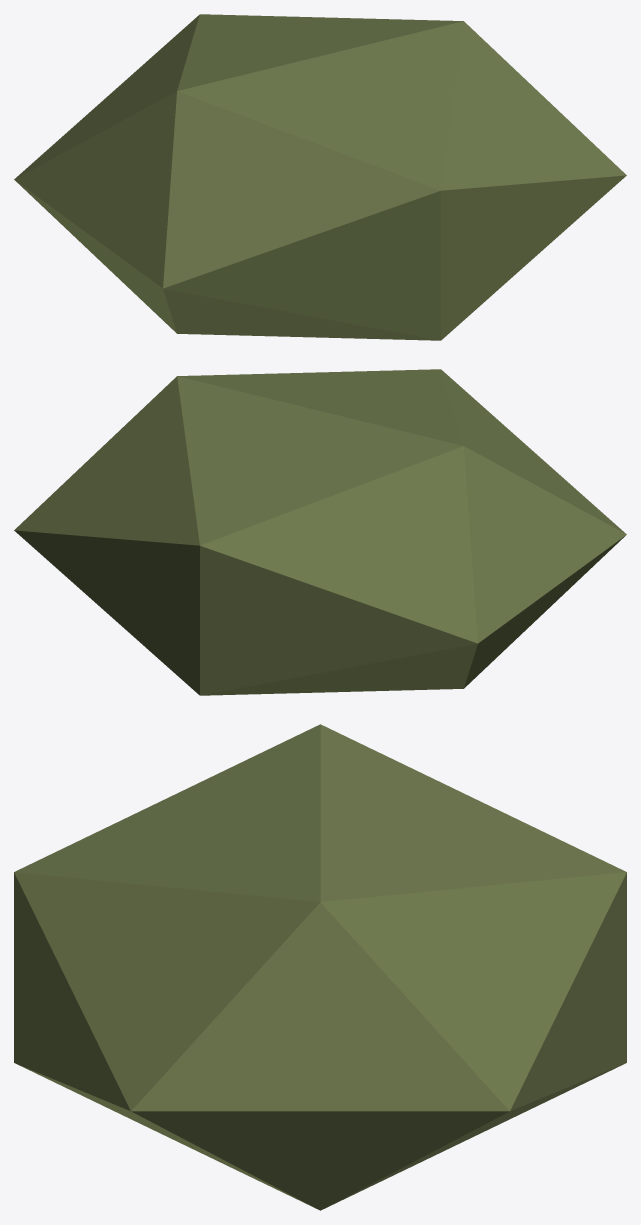
The model's file is small_hill-far.glb.
The picture shows the model from 3 angles, top to bottom: view 1: azimuth 30°, elevation 25°; view 2: azimuth 150°, elevation 25°; view 3: azimuth 270°, elevation 25°; orthographic projection. The views are drawn at different scales.
Visible parts, largest first — view 1: world-scenery/small_hill-far; view 2: world-scenery/small_hill-far; view 3: world-scenery/small_hill-far.
Part boxes in pixels (bbox=[...]): world-scenery/small_hill-far: bbox=[14, 14, 626, 340]; world-scenery/small_hill-far: bbox=[14, 369, 626, 695]; world-scenery/small_hill-far: bbox=[14, 724, 626, 1210].
Size of the model in its own units: 5.1 by 2.55 by 4.59.
